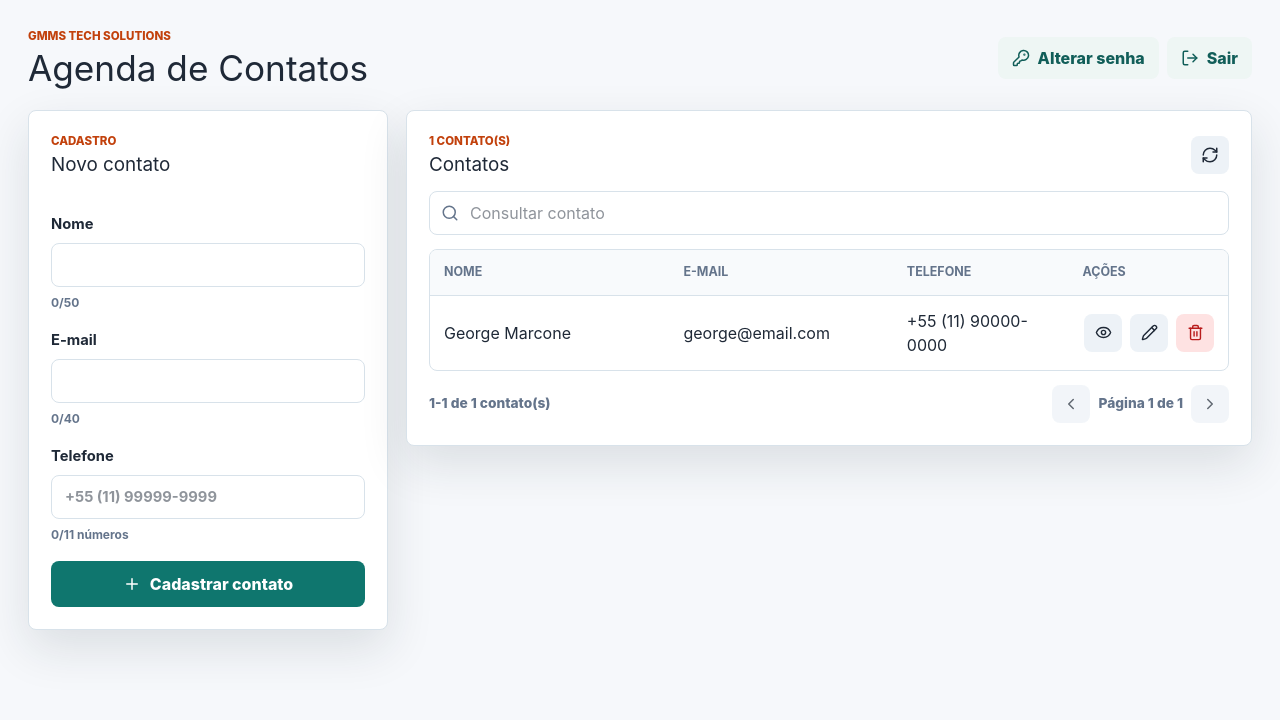
Test: ContactsView › informa o Mailpit apos remover contato
The width and height of the screenshot is (1280, 720).
Click the button named "Excluir contato".
click(1195, 333)  # box [1176,314,1214,352]
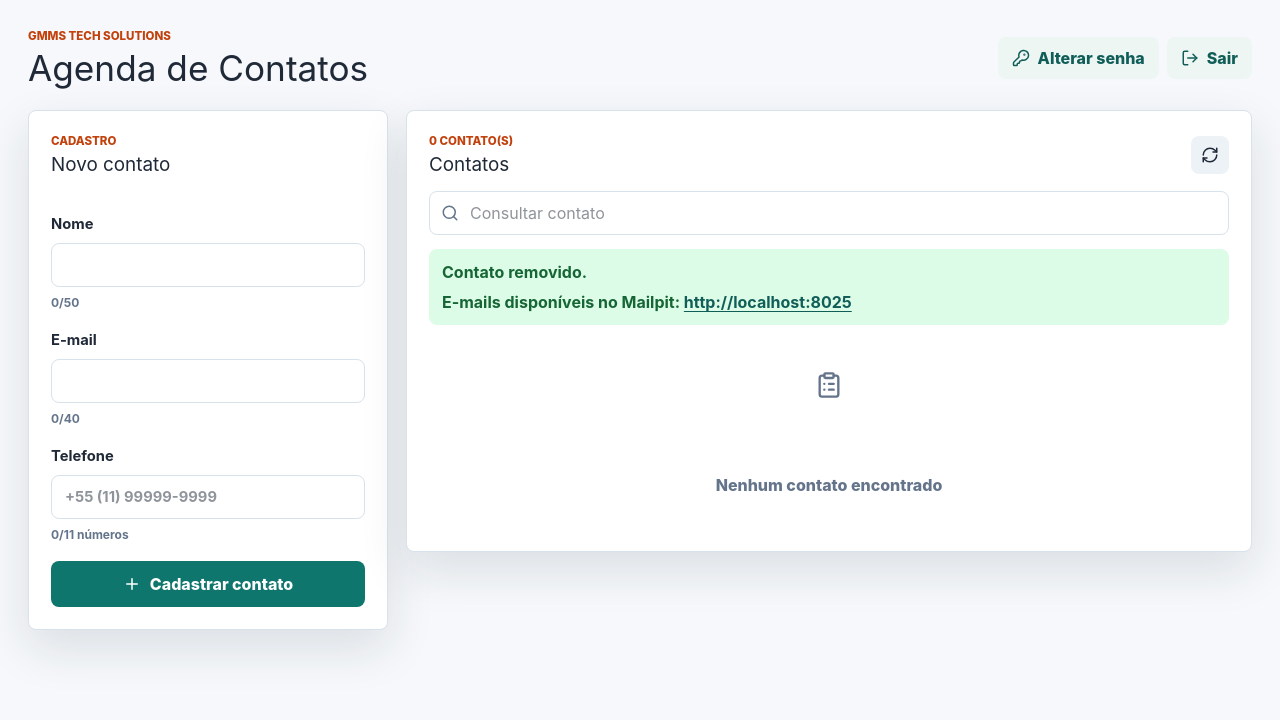
Expected: the text "Contato removido." is shown, [442,262,587,282]
